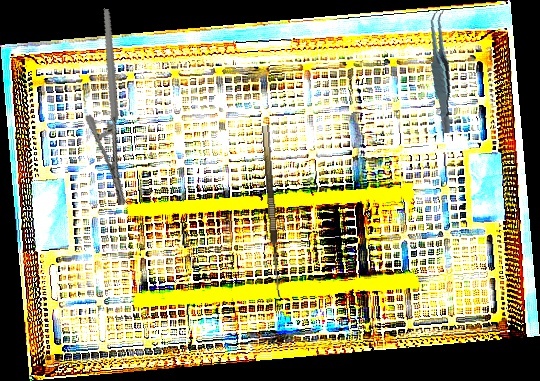Hook Surgical: (262, 124, 290, 298)
Needle Holder: (55, 8, 175, 207)
Tissue Forceps: (415, 8, 468, 134)
